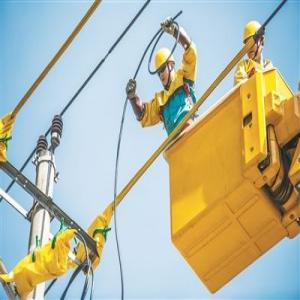yellow: (154, 47, 176, 88)
